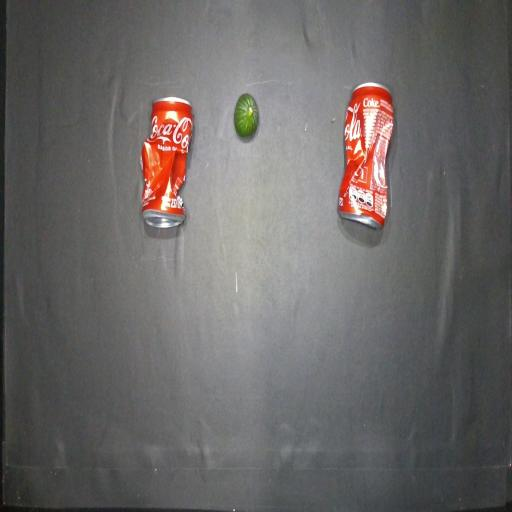higo: (234, 93, 259, 137)
lata_defectuoso: (338, 83, 393, 228), (141, 97, 193, 227)
